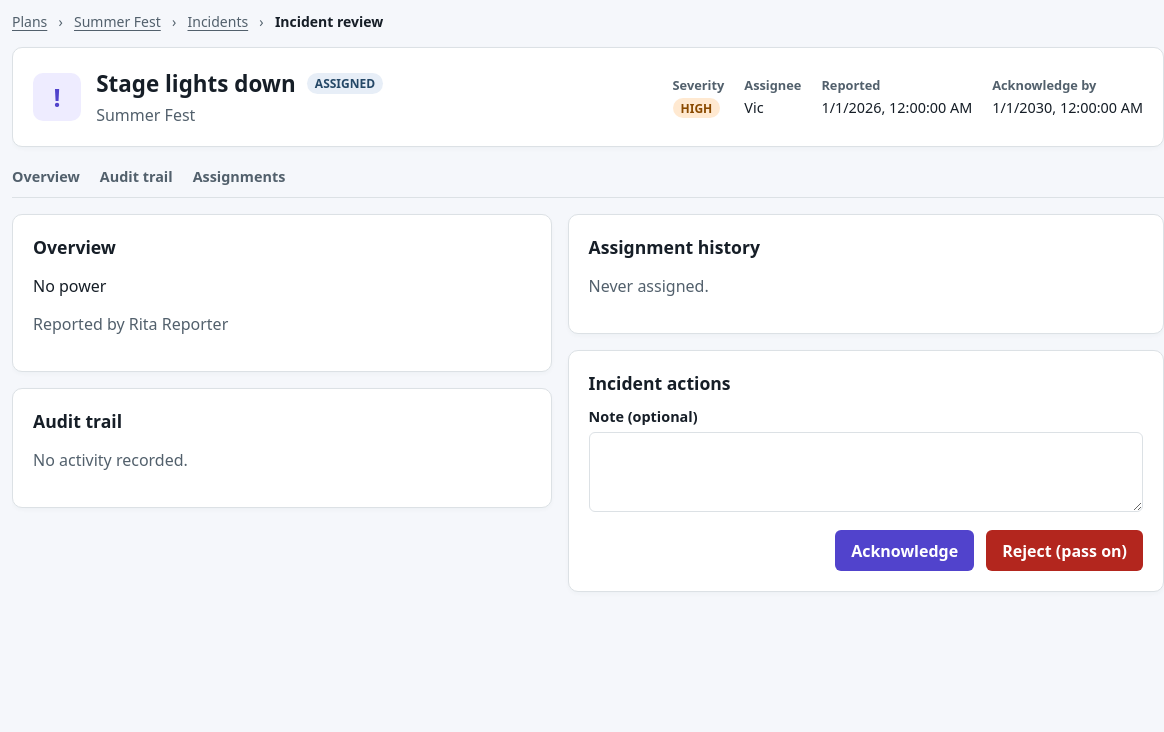
IncidentDetailPage › sends the expected version, then re-reads the incident after acting
Click the button "Acknowledge" at (905, 551), box [835, 530, 974, 571]
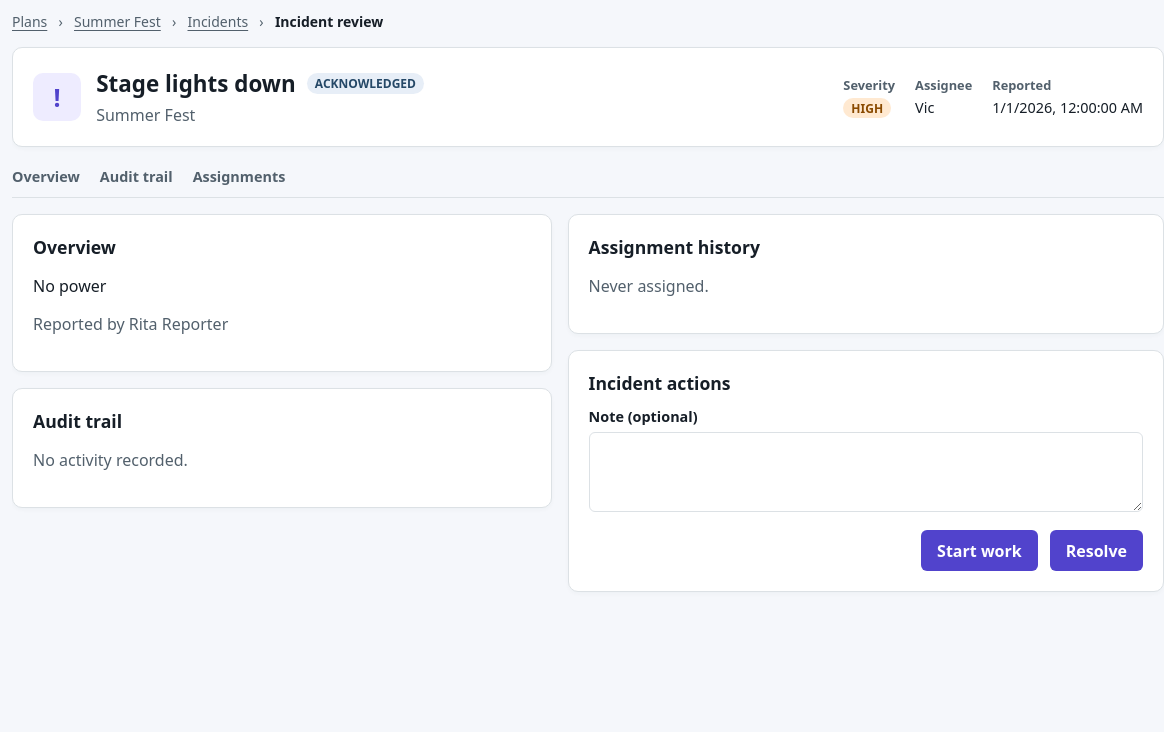
expect the button "Start work" is shown: met, box [921, 530, 1038, 571]
